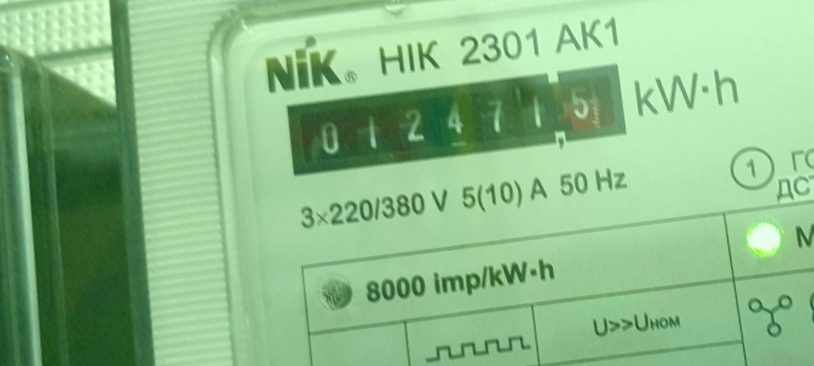0: (317, 118, 344, 156)
1: (366, 113, 381, 150), (530, 92, 545, 129)
2: (404, 106, 428, 144)
4: (445, 98, 467, 137)
5: (569, 82, 594, 122)
7: (484, 95, 509, 136)
screen: (276, 54, 641, 186)
